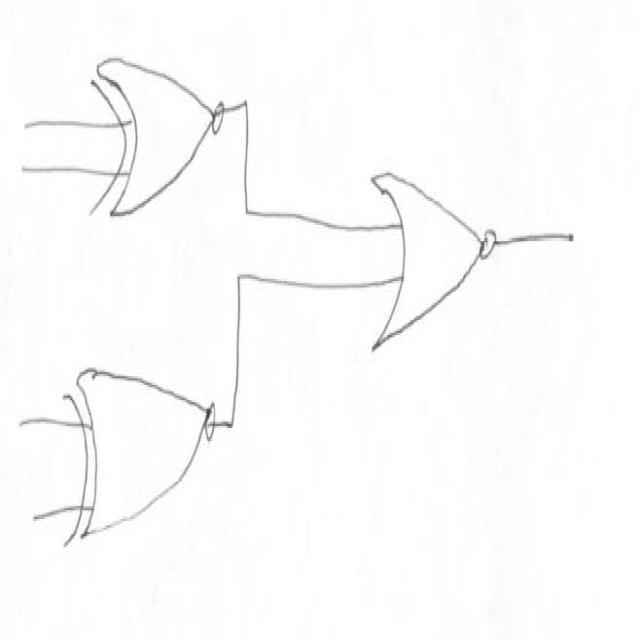NOR: (372, 134, 505, 349)
XNOR: (54, 340, 230, 539), (92, 39, 232, 238)
